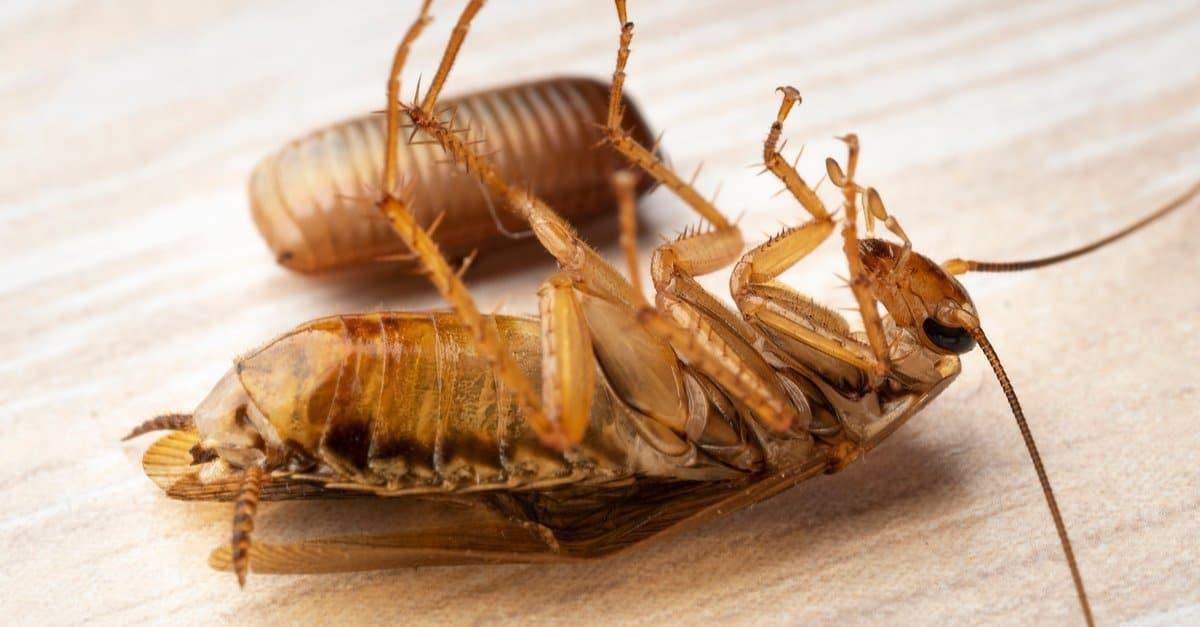cockroach: (133, 141, 1002, 582)
